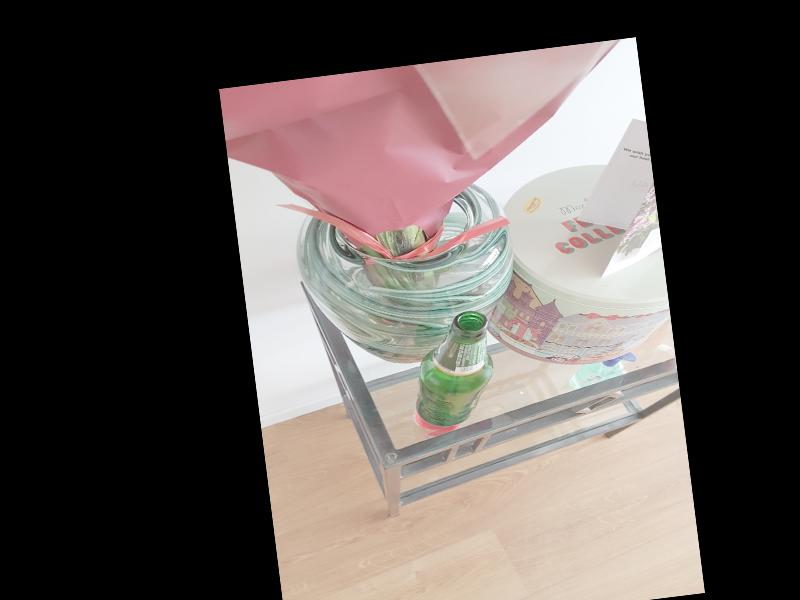Beer: (404, 309, 500, 429)
